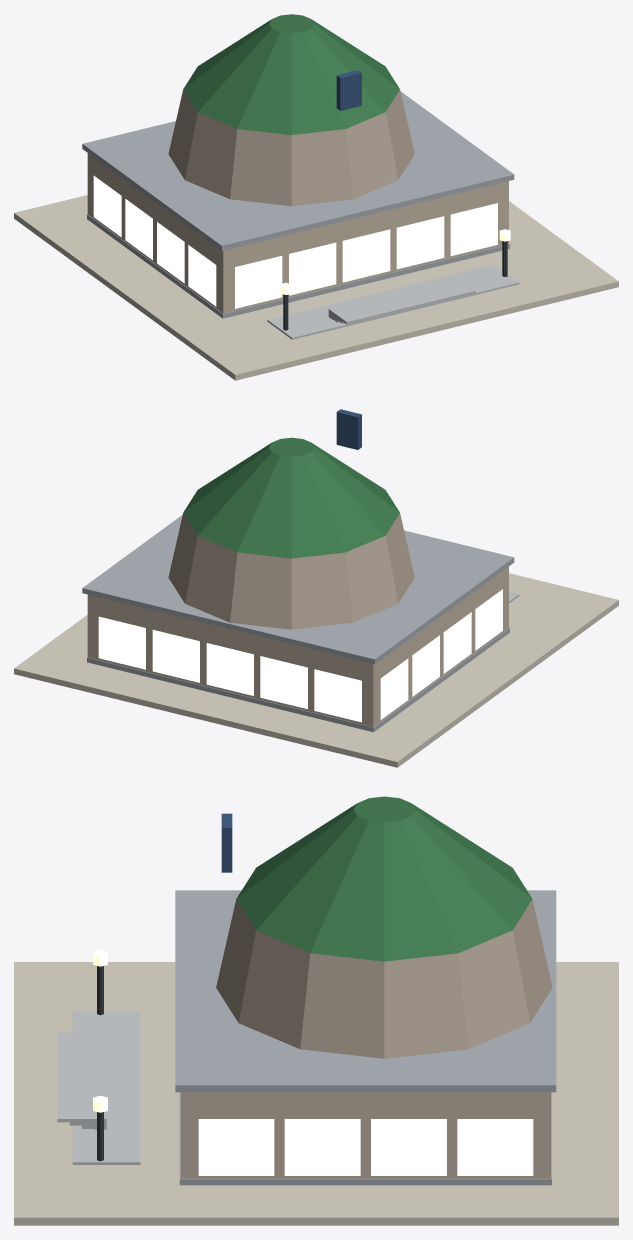
File: landmark_observatory.glb
The picture shows the model from 3 angles, top to bottom: view 1: azimuth 30°, elevation 25°; view 2: azimuth 150°, elevation 25°; view 3: azimuth 270°, elevation 25°; orthographic projection. The views are drawn at different scales.
Visible parts, largest first — view 1: landmark_observatory; view 2: landmark_observatory; view 3: landmark_observatory.
Part boxes in pixels (<box>): landmark_observatory: <box>14,14,618,380</box>; landmark_observatory: <box>14,409,618,767</box>; landmark_observatory: <box>14,796,618,1225</box>.
Bounding box in the file's own units: 1.96 × 1.03 × 1.96.
